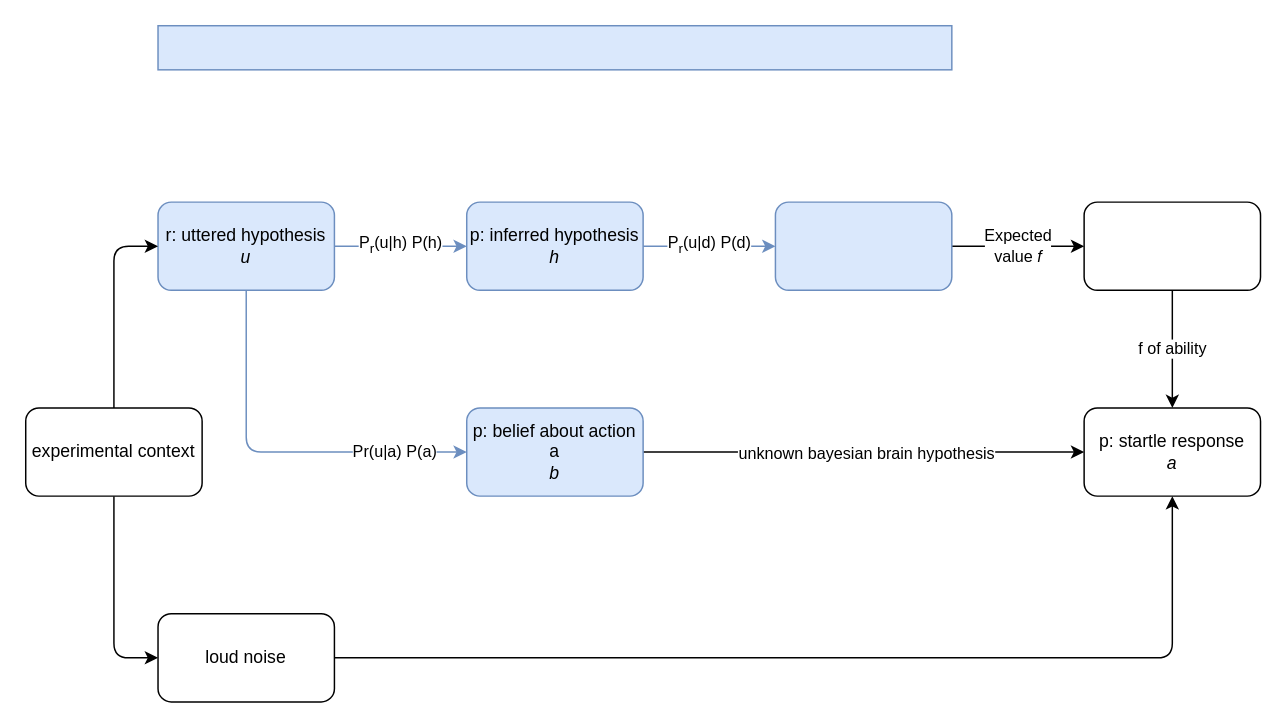
The diagram is 1286 pixels wide and 728 high, and some of its shapes have lost their labels. Each missing label, with the centre of its shape:
Inference problem: [554,47]
p: inferred desire of r d: [863,245]
p: motivation for action a: [1172,245]
